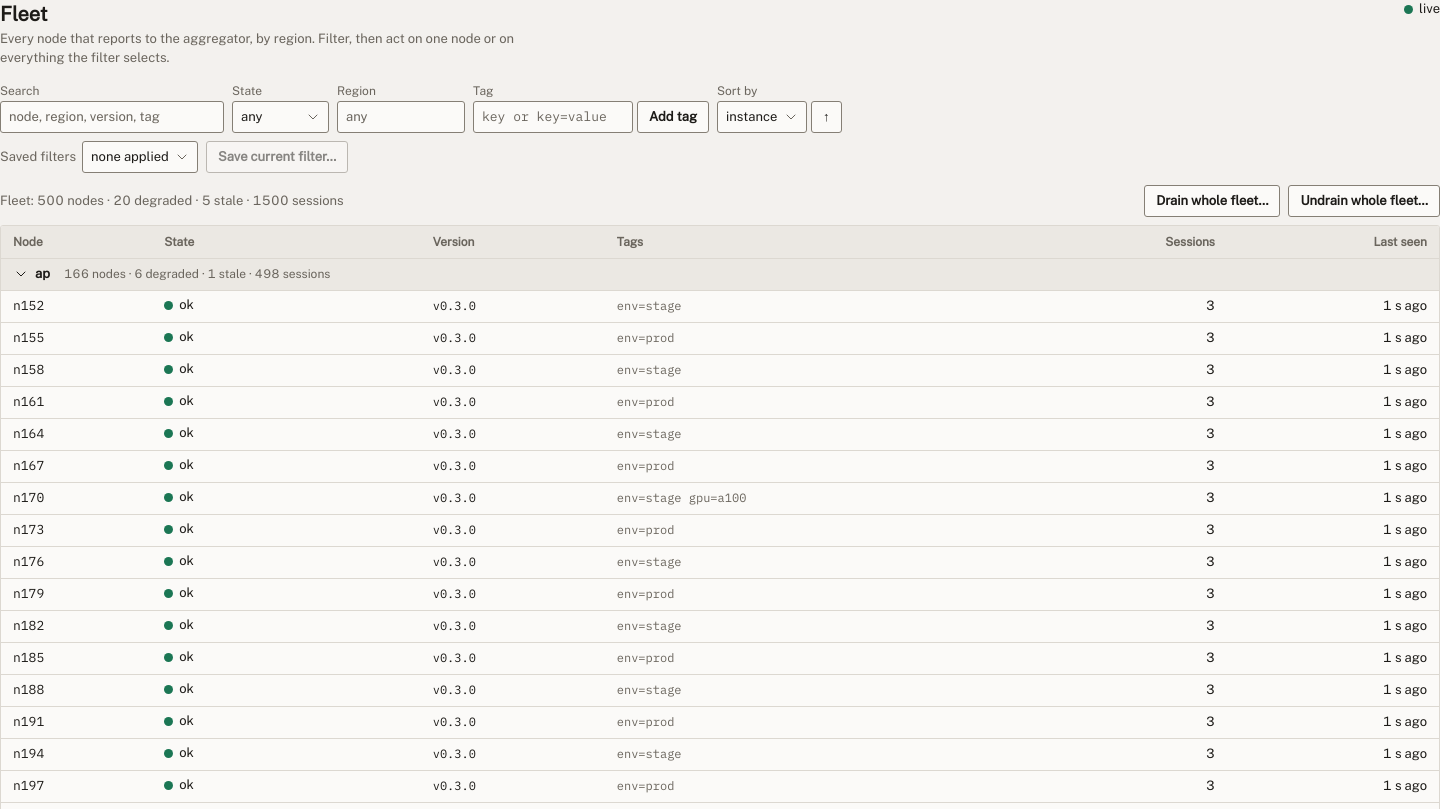
Test: Fleet page with 500 nodes › changing the sort goes back to page 1
Select "sessions" in the dropdown labelled "Sort by": [762, 117] box 717,101 -> 807,133
(page scrolled)
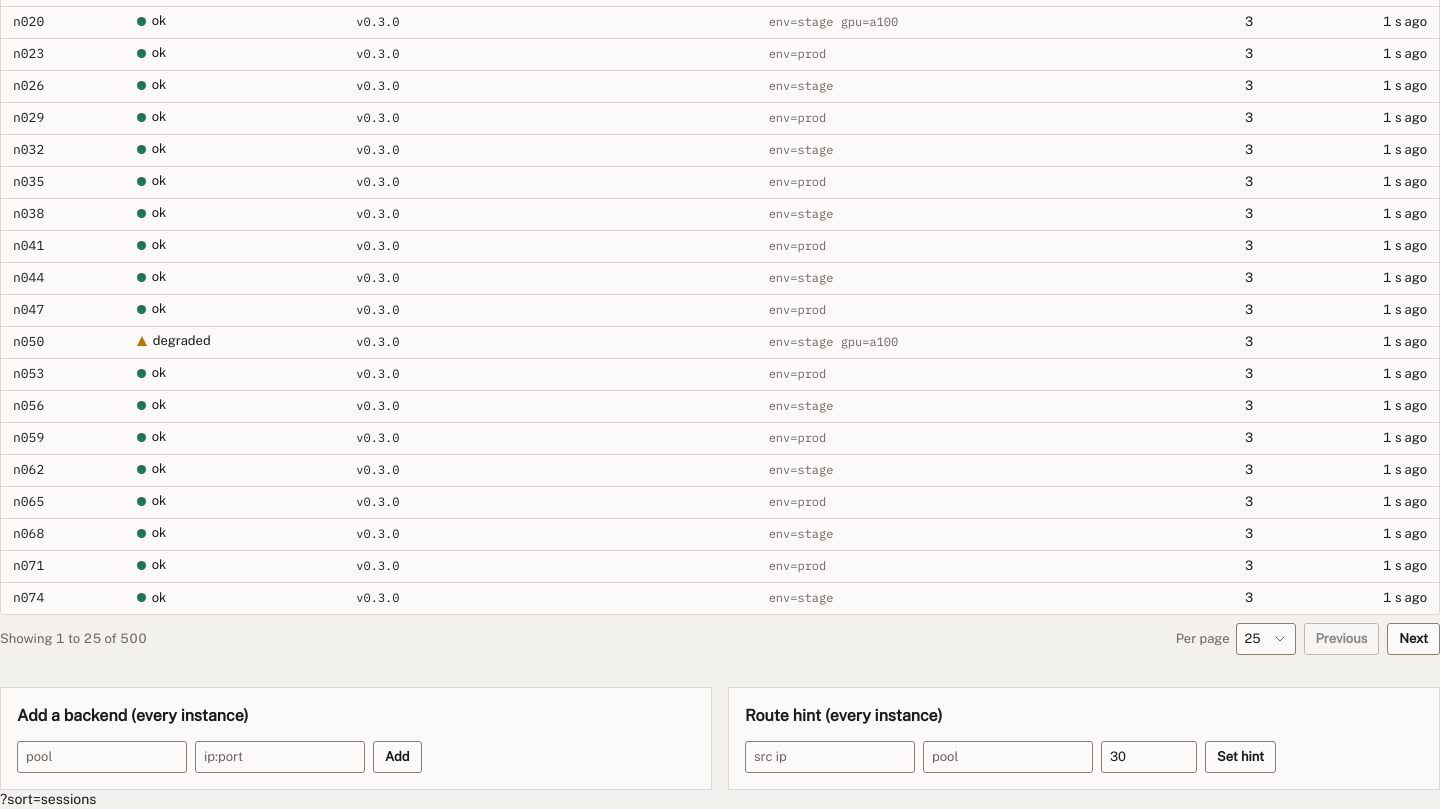
Now the text "Showing 1 to 25 of 500" is shown, box 0,630 -> 147,648
